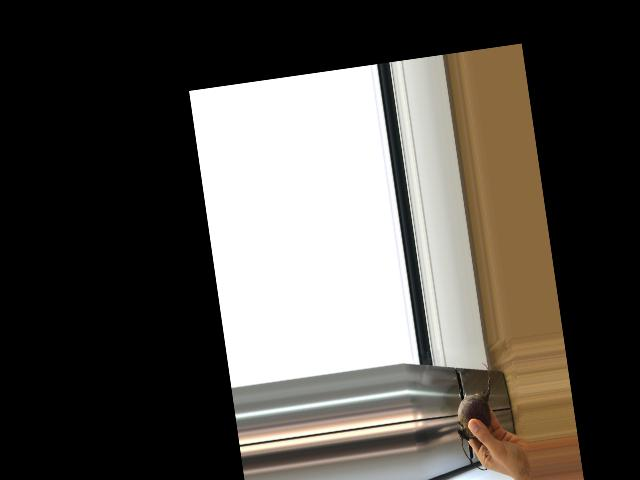beet: (448, 361, 503, 472)
